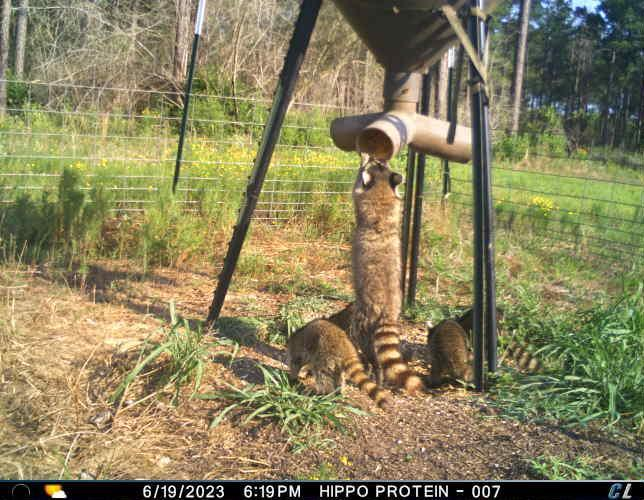Raccoon: (344, 154, 424, 399), (280, 315, 394, 411), (453, 303, 545, 376), (424, 316, 480, 387)
